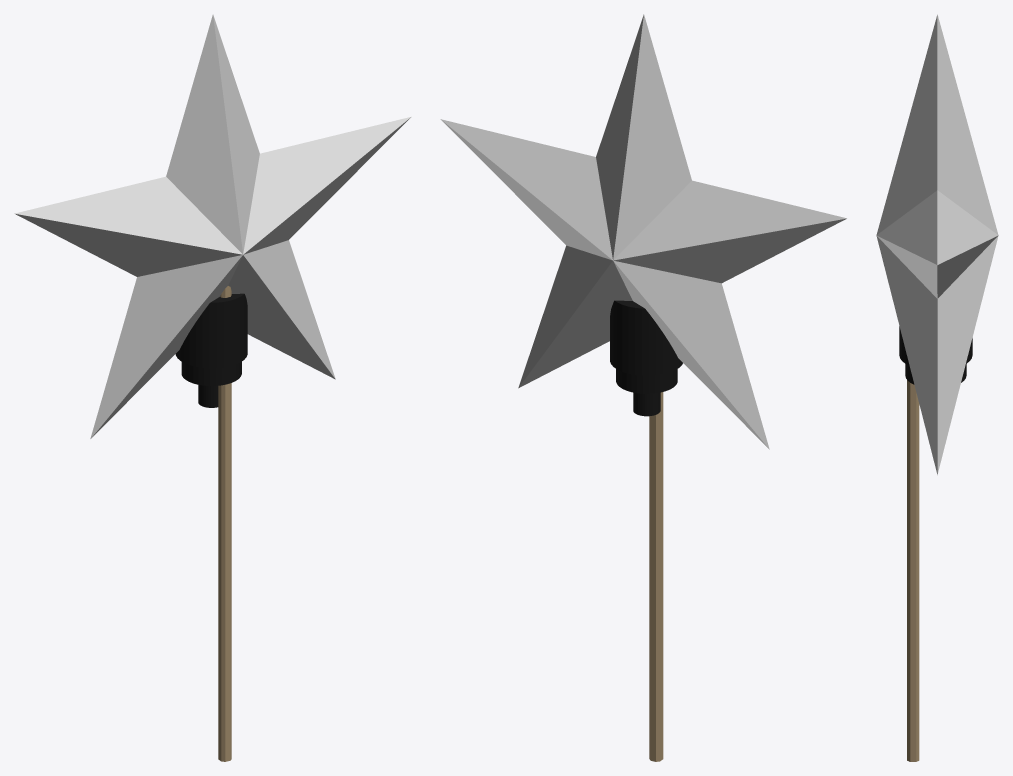
File: Star Rocket.fbx
3 renders of one model, left to right at view 1: azimuth 30°, elevation 25°; view 2: azimuth 150°, elevation 25°; view 3: azimuth 270°, elevation 25°, orthographic. The views are drawn at different scales.
Visible parts, largest first — view 1: Star, Cylinder, Cube; view 2: Star, Cylinder, Cube; view 3: Star, Cube, Cylinder.
Part boxes in pixels (bbox=[...]): Star: bbox=[14, 14, 411, 438]; Cylinder: bbox=[175, 293, 247, 407]; Cube: bbox=[218, 286, 231, 761]; Star: bbox=[440, 14, 846, 449]; Cylinder: bbox=[610, 300, 682, 416]; Cube: bbox=[649, 392, 663, 761]; Star: bbox=[876, 14, 998, 474]; Cube: bbox=[907, 380, 919, 761]; Cylinder: bbox=[899, 326, 972, 384].
Bounding box in the file's own units: 38.04 × 67.33 × 10.
